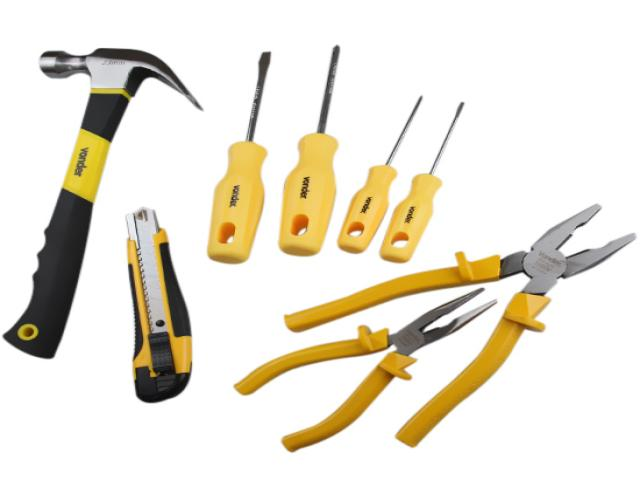Hammer: (5, 49, 199, 358)
Needle-nose pliers: (235, 288, 500, 453)
Pliers: (285, 204, 635, 446)
Screwdriver: (380, 102, 463, 262), (338, 97, 422, 253), (208, 52, 269, 263), (279, 46, 339, 255)
Utility knife: (126, 207, 191, 402)
